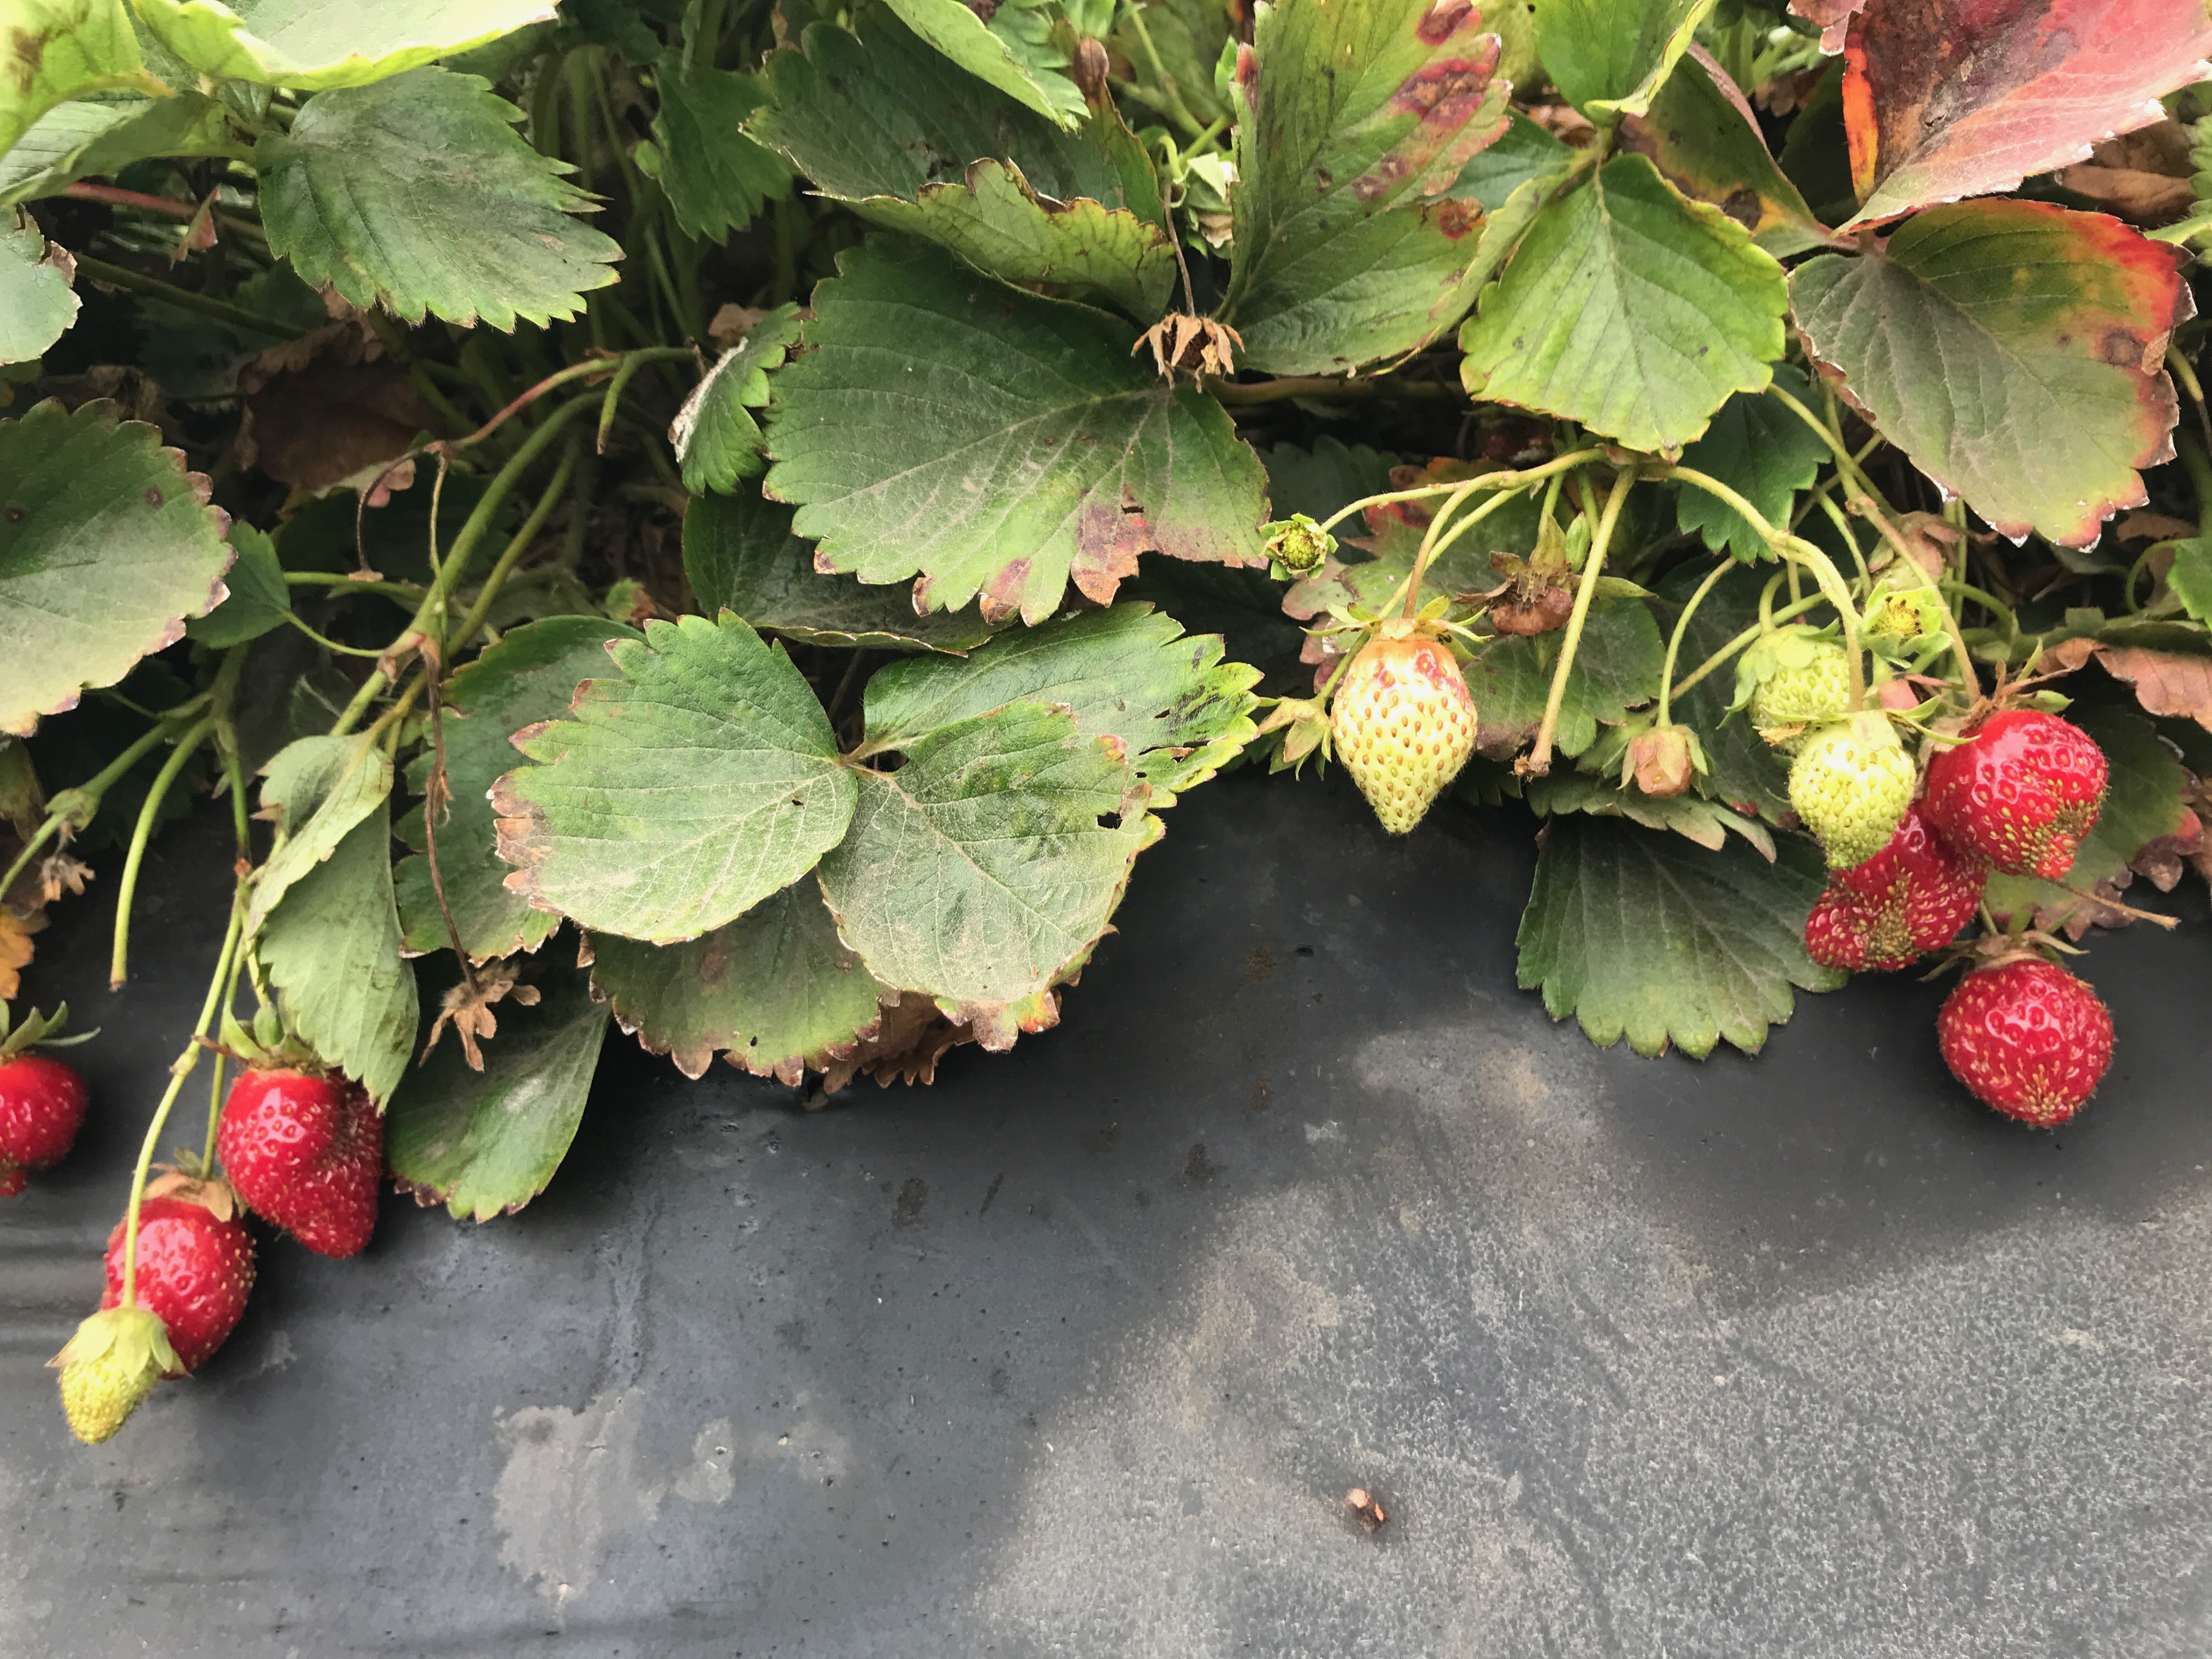ripe_strawberry: (212, 1035, 392, 1267), (1919, 687, 2114, 884), (1799, 795, 1994, 983), (1935, 941, 2123, 1131), (98, 1175, 265, 1380), (0, 1026, 98, 1208)
unripe_strawberry: (1325, 619, 1484, 842), (1785, 704, 1923, 868), (1737, 612, 1862, 751), (54, 1302, 169, 1452)
